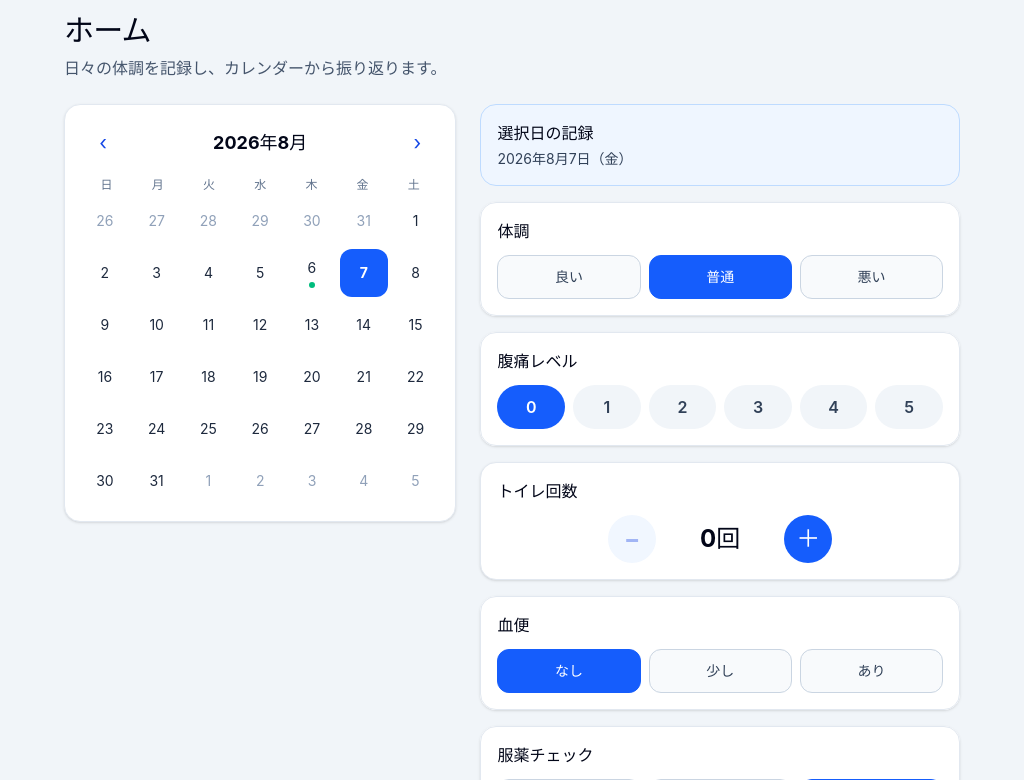
Test case: HomePage › 月移動・日付選択・体調マーカー表示と保存済み記録の読込ができる
This screenshot has width=1024, height=780.
Click the button named "8月6日、体調良い". click: [312, 273]
box: [288,249,336,297]
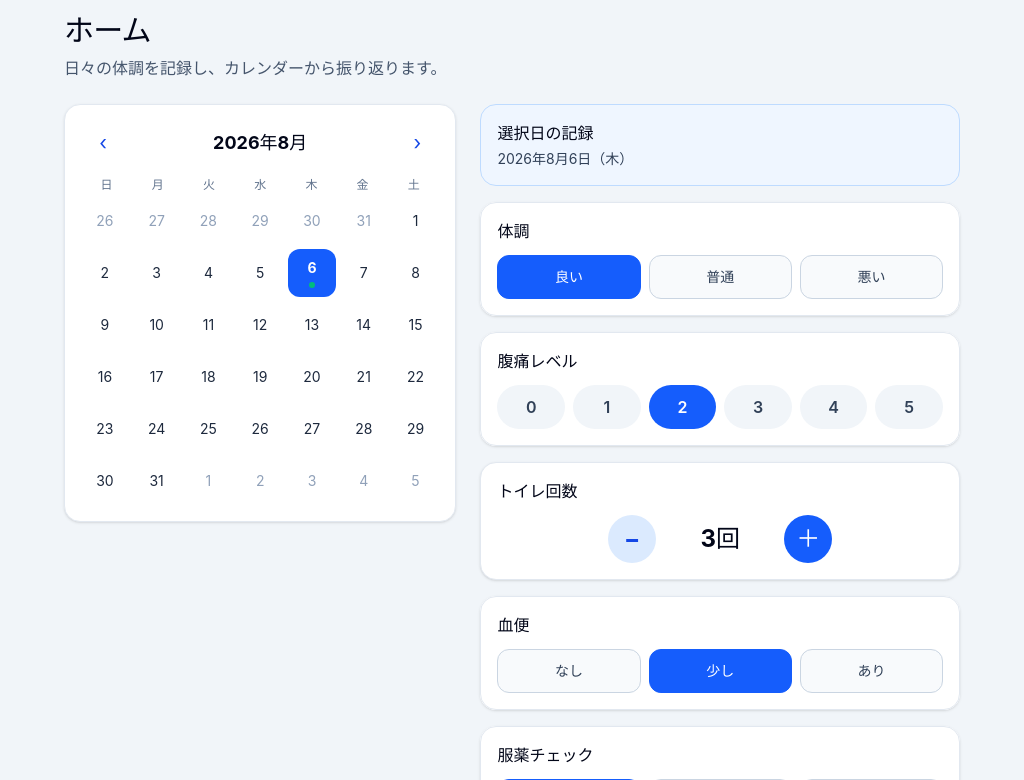
Expected: the radio button labelled "良い" is checked, [497,255,641,299]
Click the button named "翌月を表示". click: [417, 143]
box: [395,121,439,165]
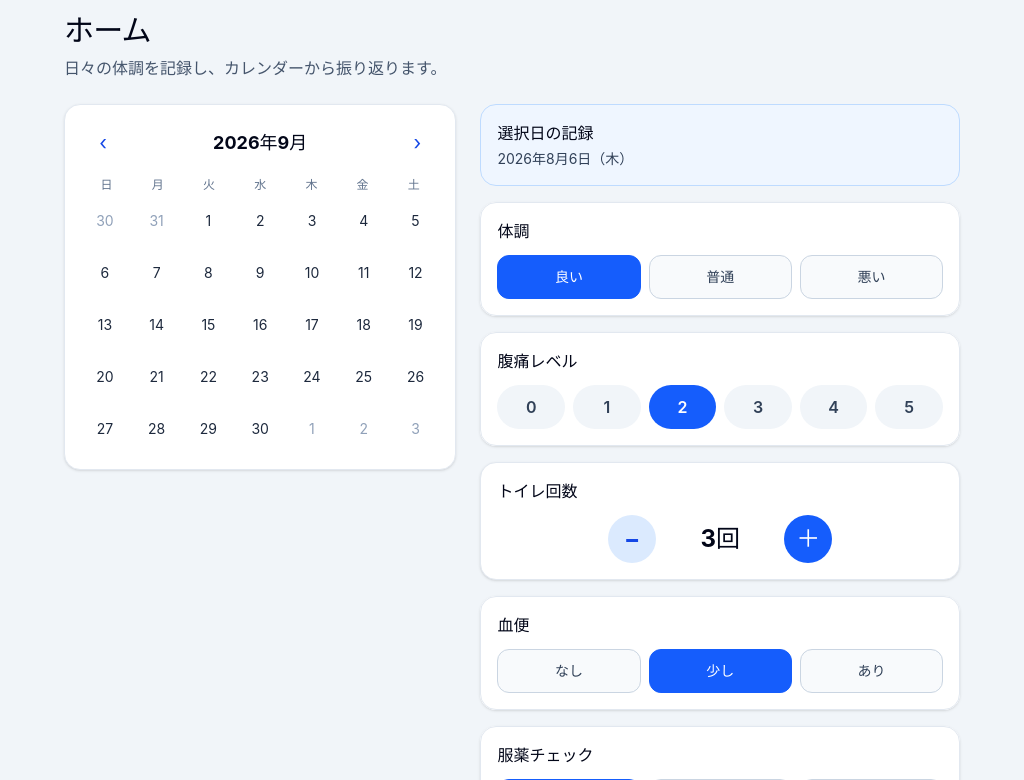
Expected: the heading "2026年9月" is shown, [213,129,307,157]
